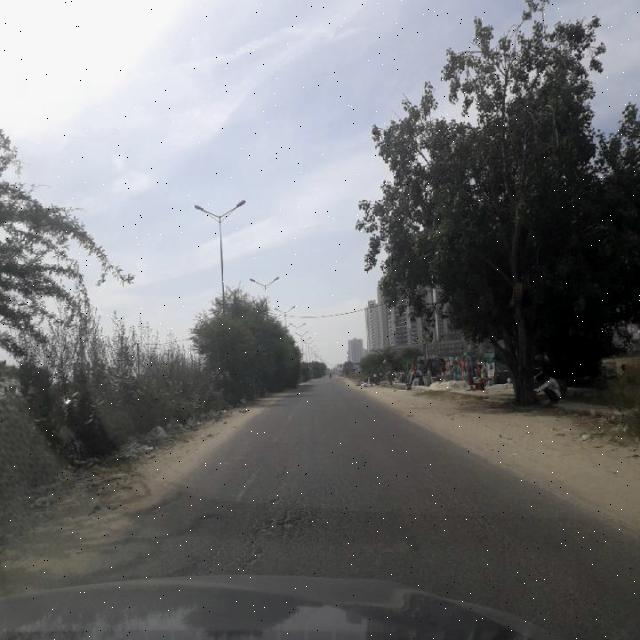D20: (222, 433, 604, 619)
